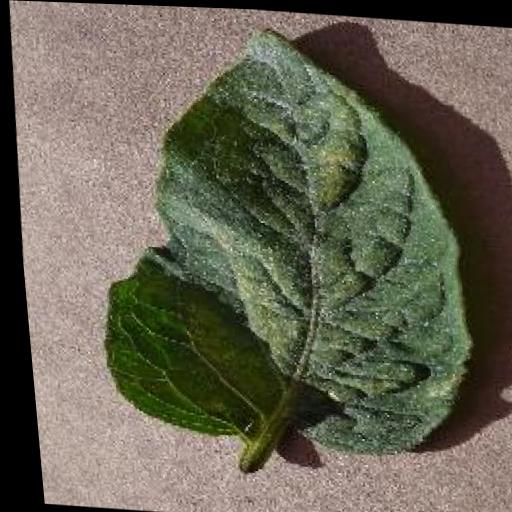Spider Mites: (75, 12, 486, 458)
